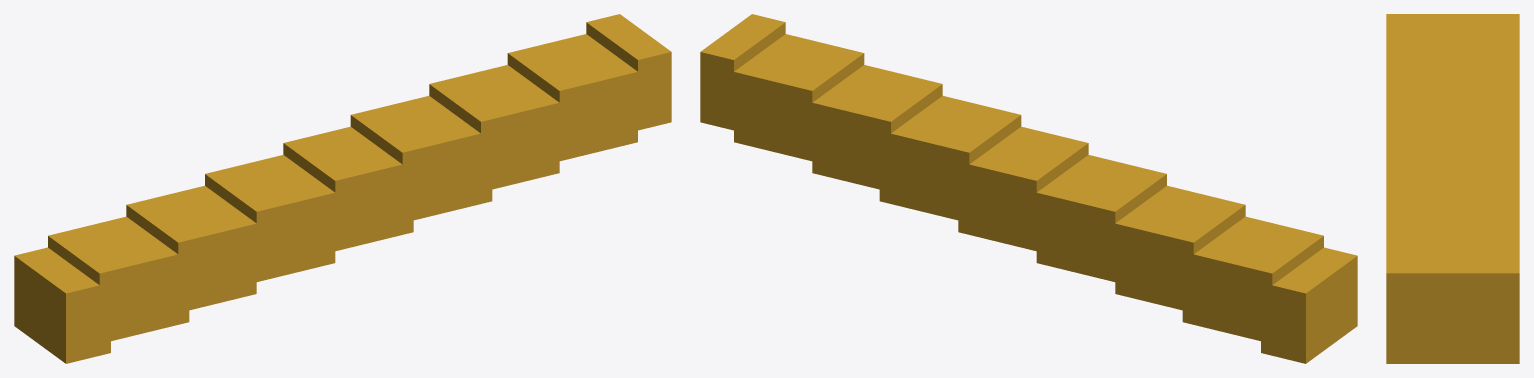
The model's file is hoist_boom.glb.
3 views of the same model, side by side, from view 1: azimuth 30°, elevation 25°; view 2: azimuth 150°, elevation 25°; view 3: azimuth 270°, elevation 25° (orthographic). The views are drawn at different scales.
Visible parts, largest first — view 1: body:compound; view 2: body:compound; view 3: body:compound.
Boxes of the visible parts, x1,y1,x2,y2 form: body:compound: (14, 14, 671, 363); body:compound: (700, 14, 1357, 363); body:compound: (1386, 14, 1519, 363).
Bounding box in the file's own units: 1.69 × 0.4375 × 0.25.
